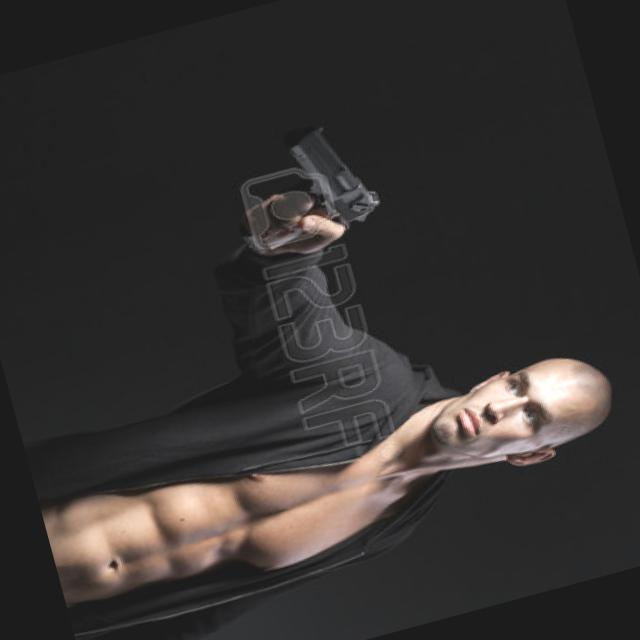handgun: (226, 114, 391, 257)
